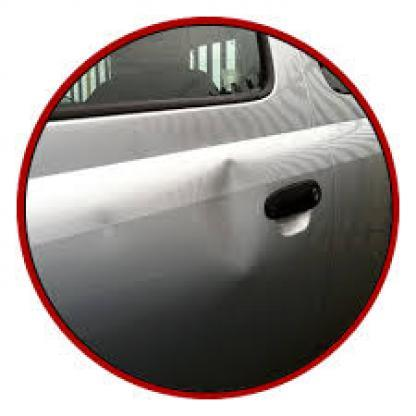dent: (204, 154, 258, 218)
